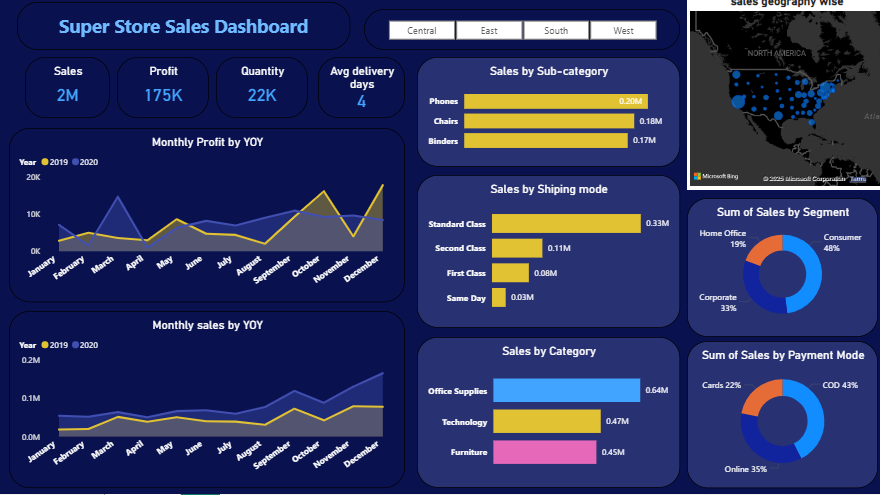

The dashboard page shown, as its layout file describes it:
{"tool":"powerbi","page":{"name":"Page 1","canvas":[1280,720],"ordinal":0},"visuals":[{"type":"clusteredBarChart","title":"Sales by Category","fields":{"Category":["SuperStore_Sales_Dataset.Category"],"Y":["Sum(SuperStore_Sales_Dataset.Sales)"]},"box":[603.4,493.9,378.7,217.4],"z":0},{"type":"clusteredBarChart","title":"Sales by Sub-category","fields":{"Category":["SuperStore_Sales_Dataset.Sub-Category"],"Y":["Sum(SuperStore_Sales_Dataset.Sales)"]},"box":[603.4,90.7,378.7,158.4],"z":1000},{"type":"clusteredBarChart","title":"Sales by Shiping mode","fields":{"Category":["SuperStore_Sales_Dataset.Ship Mode"],"Y":["Sum(SuperStore_Sales_Dataset.Sales)"]},"box":[603.4,260.6,378.7,220.3],"z":2000},{"type":"areaChart","title":"Monthly sales by YOY","fields":{"Y":["Sum(SuperStore_Sales_Dataset.Sales)"],"Category":["SuperStore_Sales_Dataset.Order Date.Variation.Date Hierarchy.Month","SuperStore_Sales_Dataset.Order Date.Variation.Date Hierarchy.Day"],"Series":["SuperStore_Sales_Dataset.Order Date.Variation.Date Hierarchy.Year"]},"box":[15.8,456.5,570.2,254.9],"z":3000},{"type":"areaChart","title":"Monthly Profit by YOY","fields":{"Category":["SuperStore_Sales_Dataset.Order Date.Variation.Date Hierarchy.Month","SuperStore_Sales_Dataset.Order Date.Variation.Date Hierarchy.Day"],"Y":["Sum(SuperStore_Sales_Dataset.Profit)"],"Series":["SuperStore_Sales_Dataset.Order Date.Variation.Date Hierarchy.Year"]},"box":[15.8,193,570.2,250.6],"z":4000},{"type":"map","title":"sales geography wise","fields":{"Category":["SuperStore_Sales_Dataset.State"],"Size":["Sum(SuperStore_Sales_Dataset.Sales)"]},"box":[991.7,0,288.3,281.7],"z":5000},{"type":"donutChart","fields":{"Category":["SuperStore_Sales_Dataset.Segment"],"Y":["Sum(SuperStore_Sales_Dataset.Sales)"]},"box":[992.2,293.8,275,200.2],"z":6000},{"type":"donutChart","fields":{"Category":["SuperStore_Sales_Dataset.Payment Mode"],"Y":["Sum(SuperStore_Sales_Dataset.Sales)"]},"box":[992.2,499.7,275,211.7],"z":7000},{"type":"slicer","fields":{"Values":["SuperStore_Sales_Dataset.Region"]},"box":[527,21.6,455,59],"z":8000},{"type":"textbox","box":[27.4,11.5,479.5,69.1],"z":9000},{"type":"card","title":"Sales","fields":{"Values":["Sum(SuperStore_Sales_Dataset.Sales)"]},"box":[38.9,90.7,122.4,87.8],"z":10000},{"type":"card","title":"Profit","fields":{"Values":["Sum(SuperStore_Sales_Dataset.Profit)"]},"box":[171.4,90.7,132.5,87.8],"z":11000},{"type":"card","title":"Quantity","fields":{"Values":["Sum(SuperStore_Sales_Dataset.Quantity)"]},"box":[313.9,90.7,132.5,87.8],"z":12000},{"type":"card","title":"Avg delivery days","fields":{"Values":["Avg(SuperStore_Sales_Dataset.Avgdelivery)"]},"box":[460.8,90.7,125.3,87.8],"z":13000}]}

Visuals, with their boxes in screenshot pixels (x1, y1, x2, y2), scaled from the page's 1280x720 canvas onto the 880x495 screenshot:
"Sales by Category" clusteredBarChart: region(415, 340, 675, 489)
"Sales by Sub-category" clusteredBarChart: region(415, 62, 675, 171)
"Sales by Shiping mode" clusteredBarChart: region(415, 179, 675, 331)
"Monthly sales by YOY" areaChart: region(11, 314, 403, 489)
"Monthly Profit by YOY" areaChart: region(11, 133, 403, 305)
"sales geography wise" map: region(682, 0, 879, 194)
donutChart - SuperStore_Sales_Dataset.Segment x Sum(SuperStore_Sales_Dataset.Sales): region(682, 202, 871, 340)
donutChart - SuperStore_Sales_Dataset.Payment Mode x Sum(SuperStore_Sales_Dataset.Sales): region(682, 344, 871, 489)
slicer - SuperStore_Sales_Dataset.Region: region(362, 15, 675, 55)
textbox: region(19, 8, 348, 55)
"Sales" card: region(27, 62, 111, 123)
"Profit" card: region(118, 62, 209, 123)
"Quantity" card: region(216, 62, 307, 123)
"Avg delivery days" card: region(317, 62, 403, 123)
